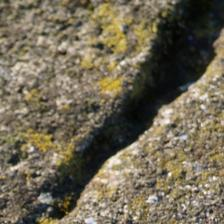Crack: (9, 1, 212, 217)
